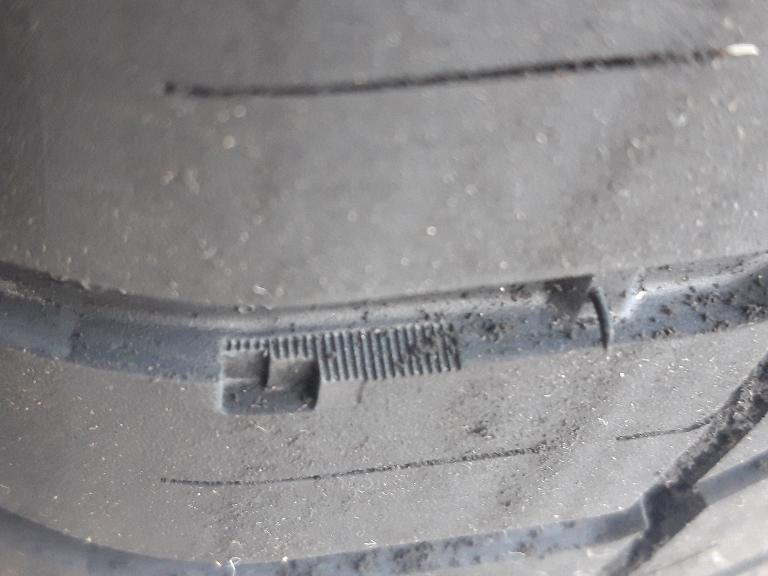temoin:50: (207, 328, 376, 423)
